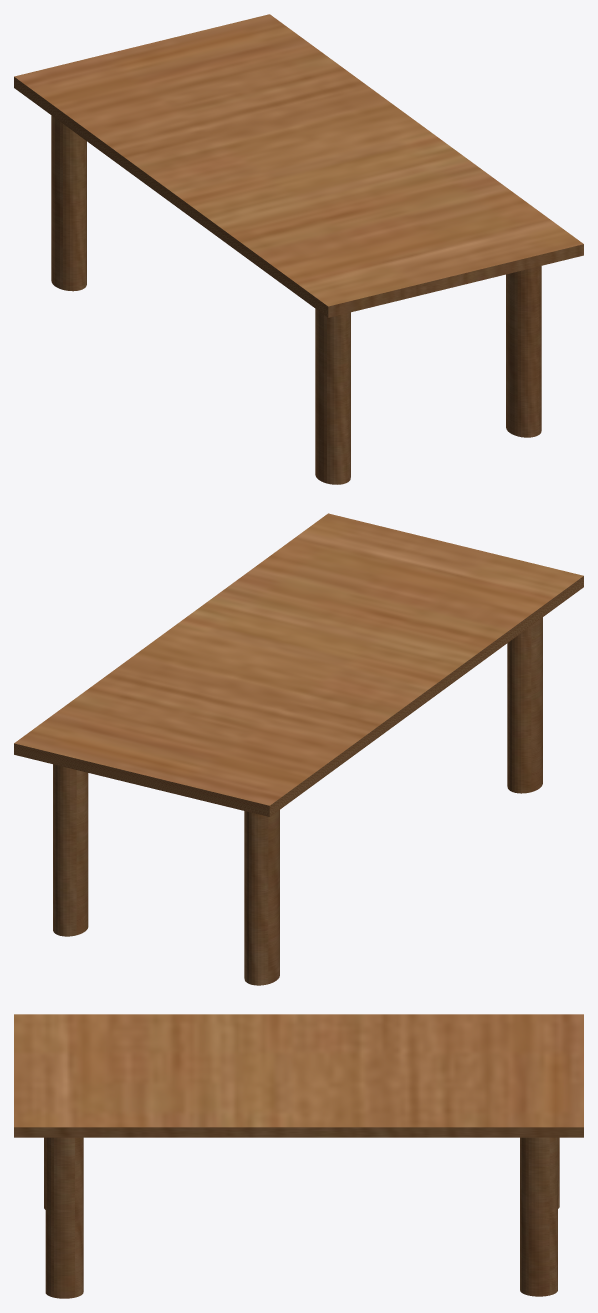
Rendered from table.dae.
3 renders of one model, top to bottom at view 1: azimuth 30°, elevation 25°; view 2: azimuth 150°, elevation 25°; view 3: azimuth 270°, elevation 25°, orthographic. The views are drawn at different scales.
Visible parts, largest first — view 1: Cube; view 2: Cube; view 3: Cube.
Part boxes in pixels (bbox=[...]): Cube: bbox=[14, 14, 583, 484]; Cube: bbox=[14, 513, 583, 985]; Cube: bbox=[14, 1014, 583, 1298].
Size of the model in its own units: 0.9187 by 1.95 by 0.6783.
1 material, 1 textured.
